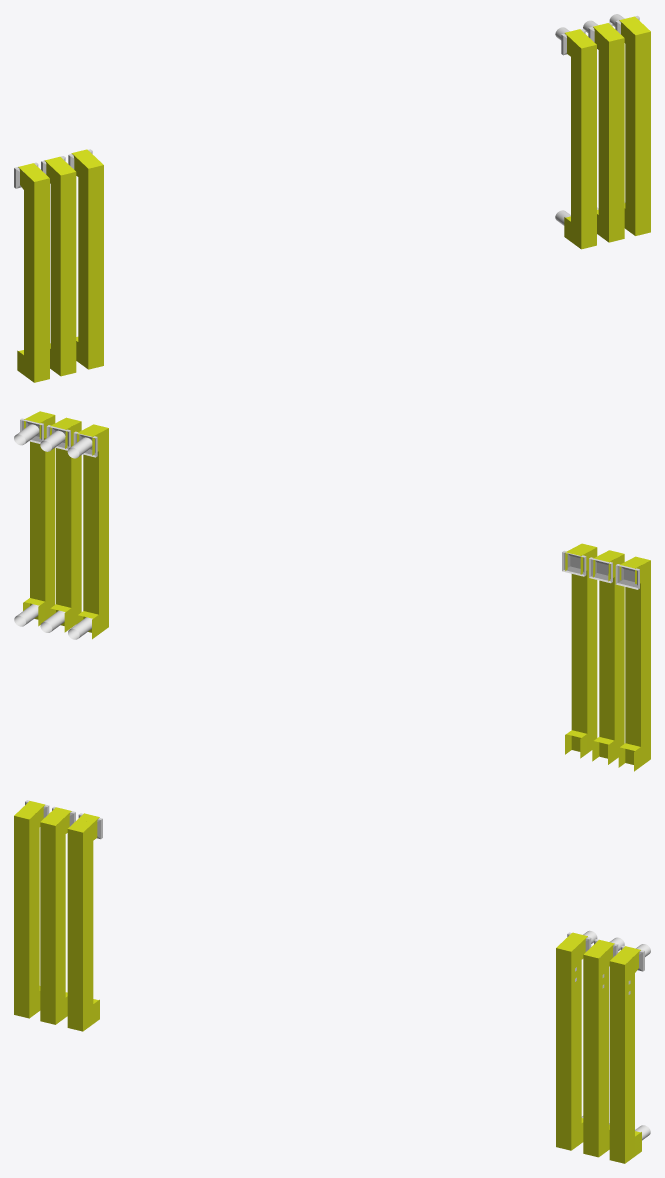
The model's file is fix pipes 10.fbx.
3 views of the same model, one above another, from view 1: azimuth 30°, elevation 25°; view 2: azimuth 150°, elevation 25°; view 3: azimuth 330°, elevation 25° (orthographic).
Parts seen in each view (by area): view 1: pipe up.050, pipe walk.022, pipe up, back cols.004; view 2: pipe up.050, back cols.004, pipe up, pipes.006, pipe walk.022; view 3: pipe up.050, pipe walk.022, pipe up, back cols.004.
Boxes of the visible parts, <box> form: pipe up.050: <box>24,26,650,382</box>; pipe walk.022: <box>18,16,650,354</box>; pipe up: <box>17,20,625,374</box>; back cols.004: <box>14,15,639,188</box>; pipe up.050: <box>30,415,650,766</box>; back cols.004: <box>20,418,639,589</box>; pipe up: <box>23,419,640,771</box>; pipes.006: <box>14,424,92,639</box>; pipe walk.022: <box>24,411,650,750</box>; pipe up.050: <box>14,810,634,1163</box>; pipe walk.022: <box>14,801,640,1136</box>; pipe up: <box>39,805,641,1156</box>; back cols.004: <box>25,800,644,971</box>.
Size of the model in its own units: 9657 by 3022 by 748.
